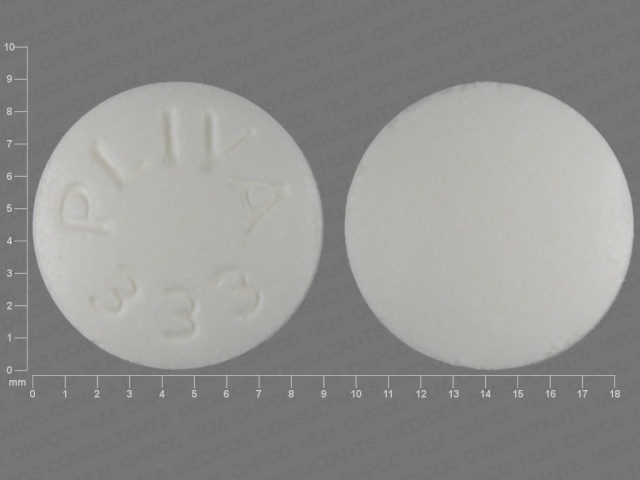3: (204, 262, 266, 319), (85, 261, 141, 319), (158, 280, 203, 345)
A: (221, 173, 291, 239)
I: (153, 105, 186, 169)
L: (82, 136, 151, 190)
P: (52, 183, 117, 240)
V: (199, 106, 258, 181)
